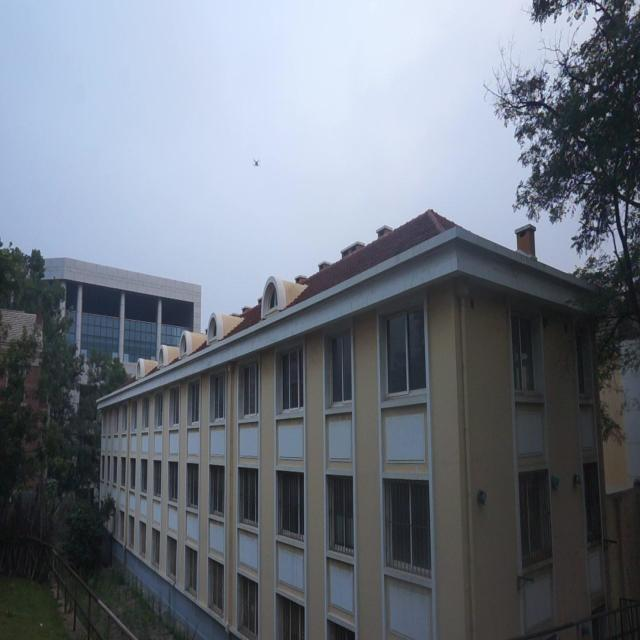drone: (250, 153, 263, 173)
